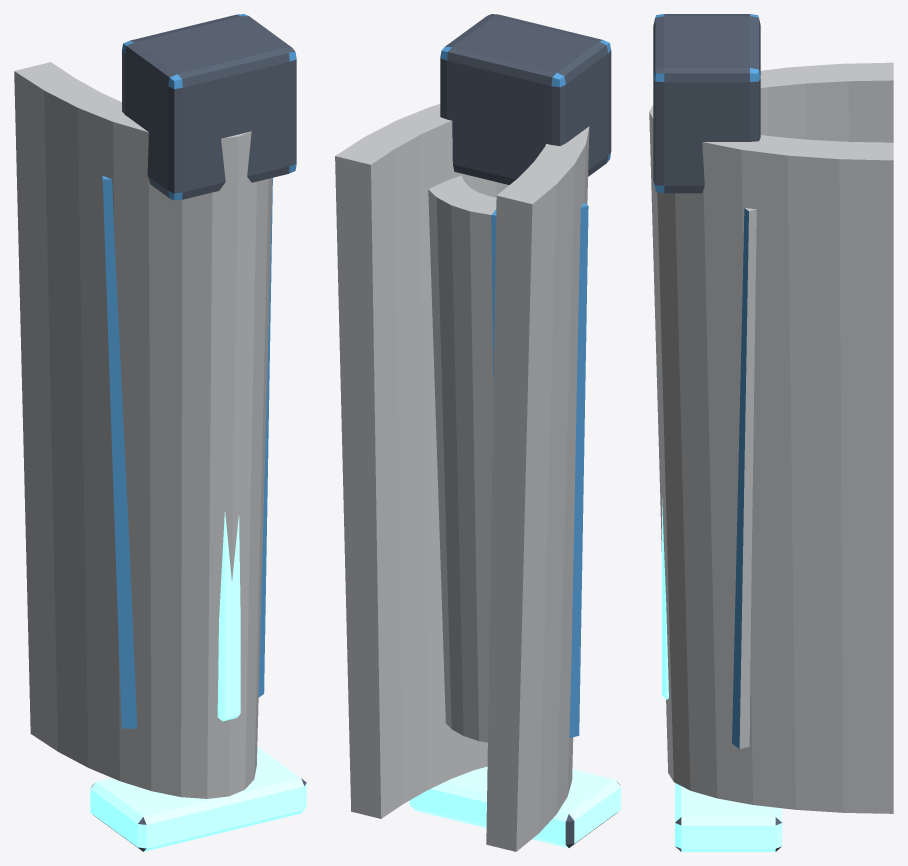
The model's file is left_shin__base.glb.
3 renders of one model, left to right at view 1: azimuth 30°, elevation 25°; view 2: azimuth 150°, elevation 25°; view 3: azimuth 270°, elevation 25°, orthographic. The views are drawn at different scales.
Visible parts, largest first — view 1: armor_left_shin__base_v001; view 2: armor_left_shin__base_v001; view 3: armor_left_shin__base_v001.
Boxes of the visible parts, left/top/right/bottom form: armor_left_shin__base_v001: left=14, top=14, right=306, bottom=851; armor_left_shin__base_v001: left=335, top=14, right=620, bottom=851; armor_left_shin__base_v001: left=649, top=14, right=893, bottom=851.
Bounding box in the file's own units: 0.1078 × 0.3967 × 0.1139.
